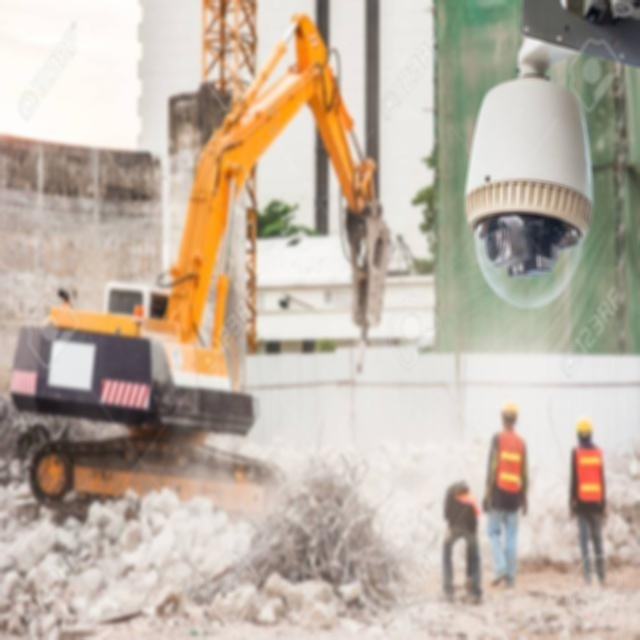Con_Chaleco: (491, 430, 527, 501), (569, 442, 605, 506)
